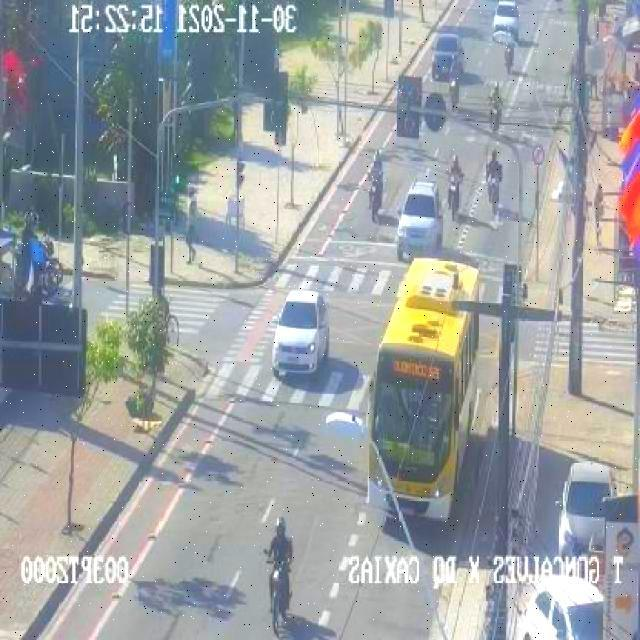Bus: (362, 256, 492, 522)
Car: (266, 286, 338, 391), (550, 460, 620, 561), (522, 579, 609, 640), (427, 24, 464, 86), (488, 0, 524, 47)
Cycle: (259, 514, 302, 637), (363, 148, 388, 226), (484, 146, 504, 222), (447, 148, 465, 225), (446, 52, 464, 112), (488, 80, 504, 130)
